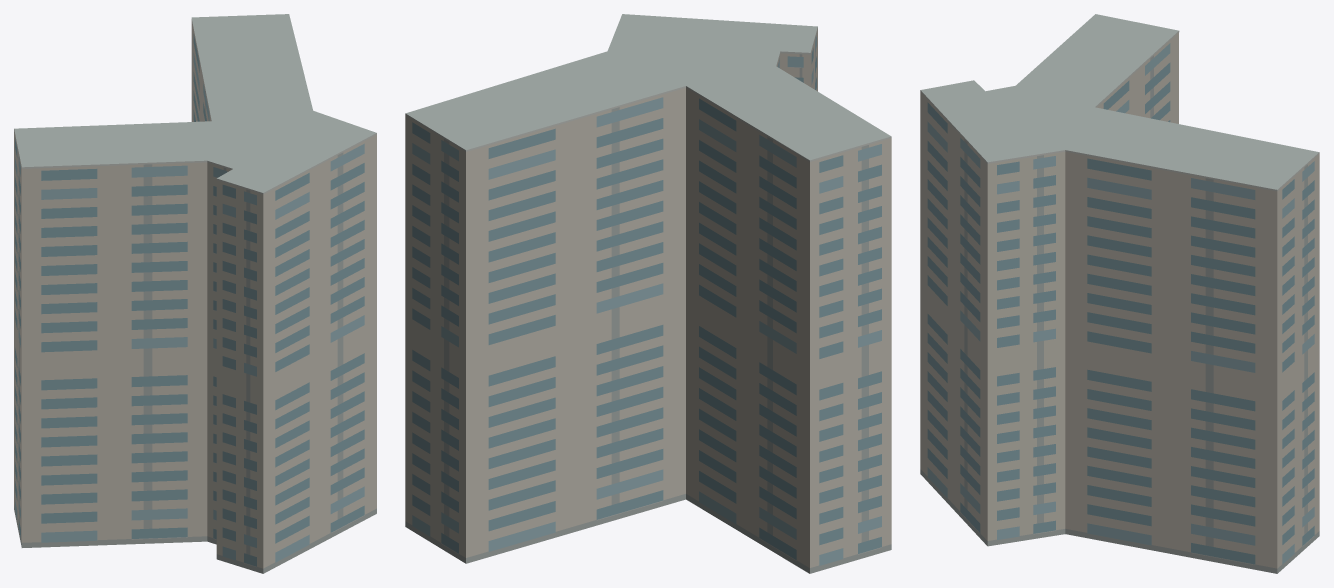
The model's file is residential-cabb4c6c-177c-4382-8c77-f64d1aff18b0.glb.
3 renders of one model, left to right at view 1: azimuth 30°, elevation 25°; view 2: azimuth 150°, elevation 25°; view 3: azimuth 270°, elevation 25°, orthographic. The views are drawn at different scales.
Parts seen in each view (by area): view 1: residential-cabb4c6c-177c-4382-8c77-f64d1aff18b0.tmp; view 2: residential-cabb4c6c-177c-4382-8c77-f64d1aff18b0.tmp; view 3: residential-cabb4c6c-177c-4382-8c77-f64d1aff18b0.tmp.
Part boxes in pixels (x1,y1,x2,y2): residential-cabb4c6c-177c-4382-8c77-f64d1aff18b0.tmp: (14,14,376,573); residential-cabb4c6c-177c-4382-8c77-f64d1aff18b0.tmp: (405,14,891,573); residential-cabb4c6c-177c-4382-8c77-f64d1aff18b0.tmp: (920,14,1319,573).
Size of the model in its own units: 56.98 by 58 by 54.62.
